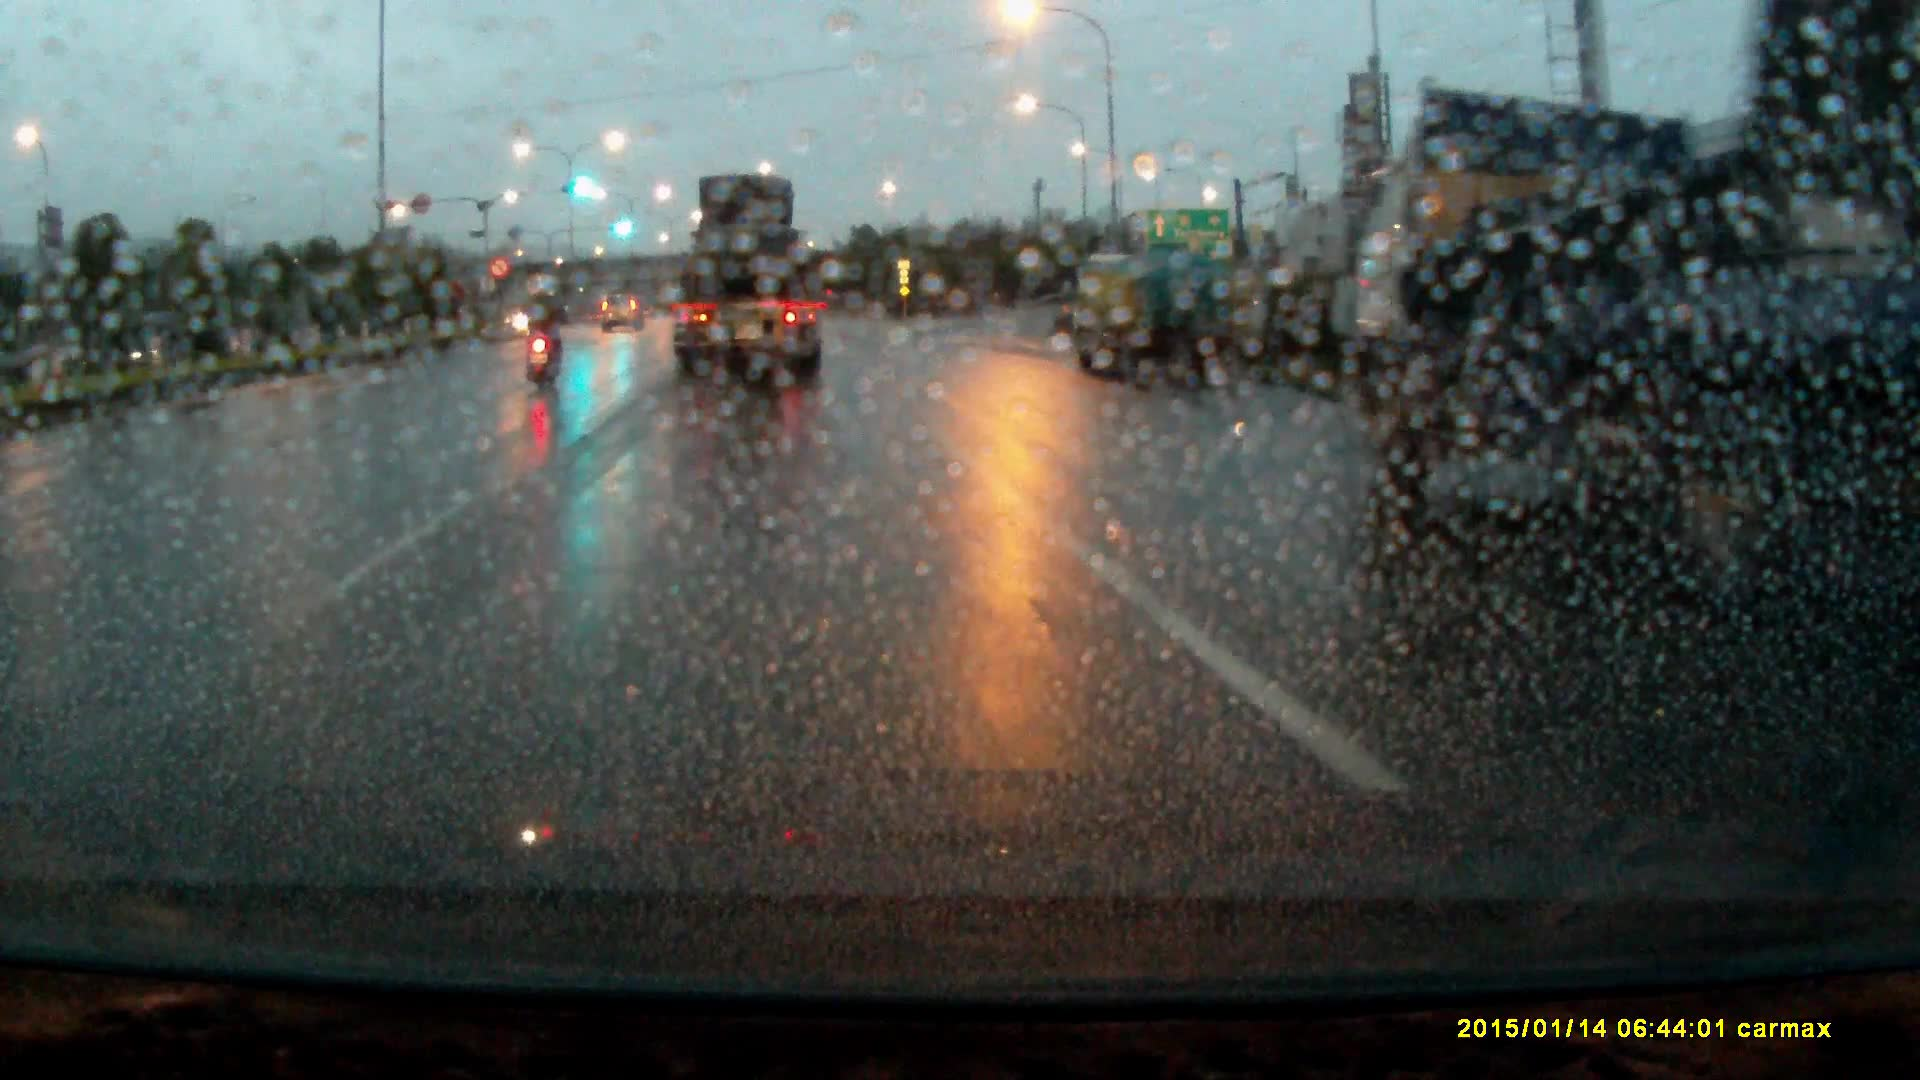rider: (521, 272, 574, 384)
vehicle: (1340, 93, 1920, 571), (667, 170, 826, 392), (1068, 255, 1238, 383), (601, 294, 647, 336)
